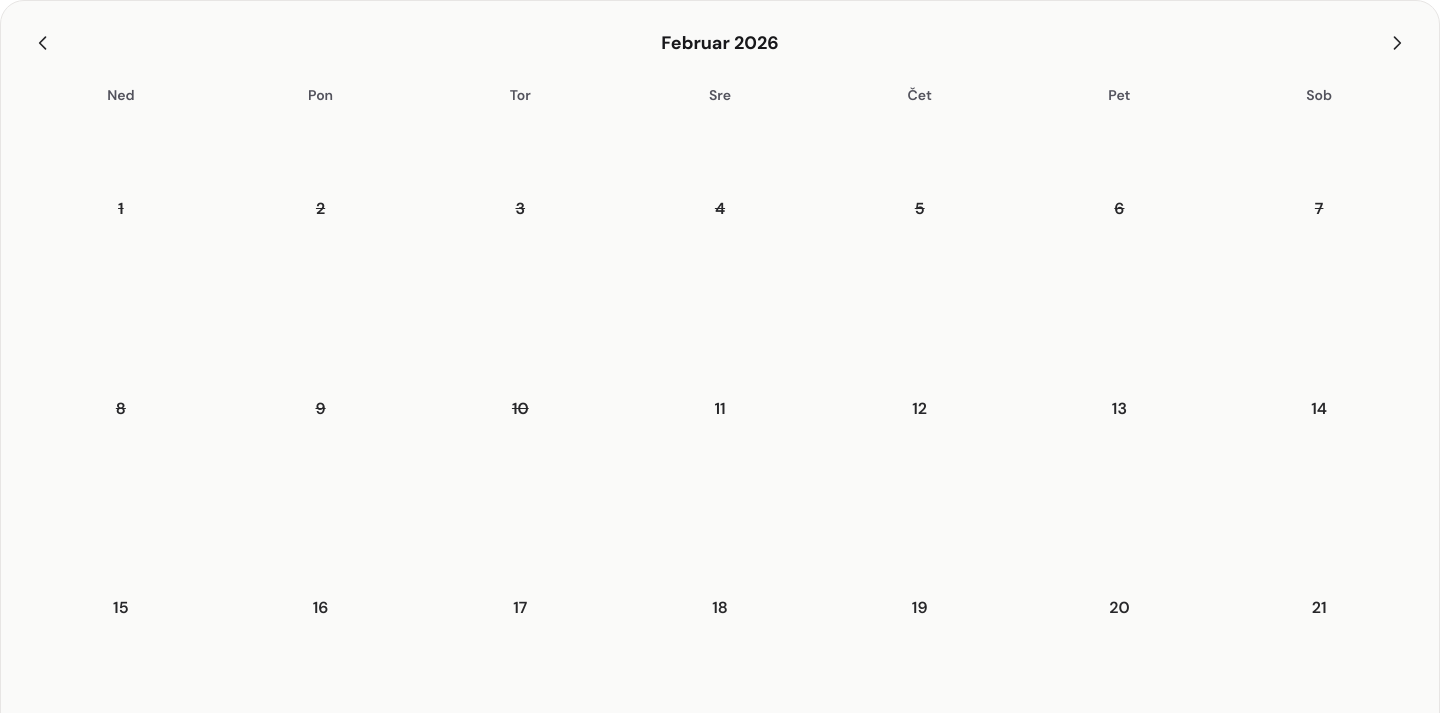
Test case: Calendar › navigates to previous month
Click the button named "Prejšnji mesec" at (43, 43), box x1=25 y1=25 x2=61 y2=61
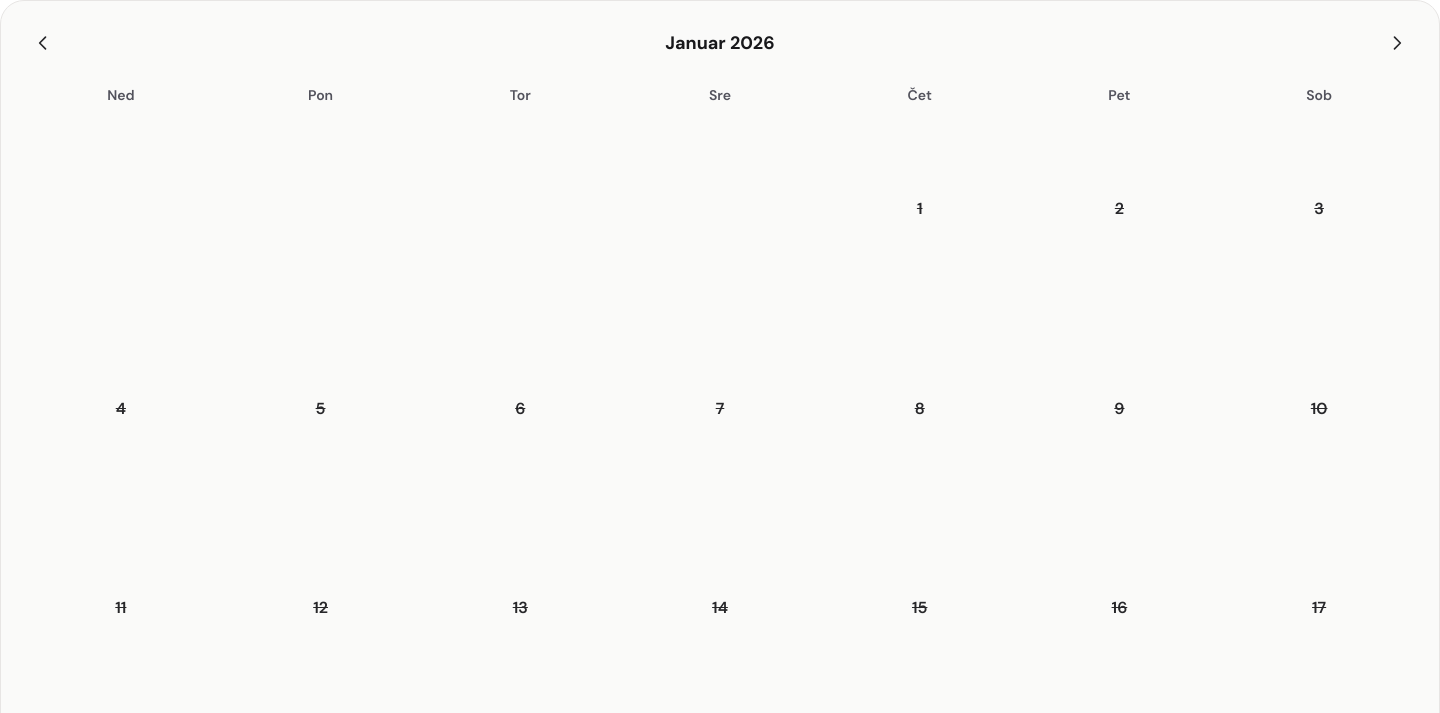
Now the heading "Januar 2026" is shown, box x1=665 y1=29 x2=775 y2=57
